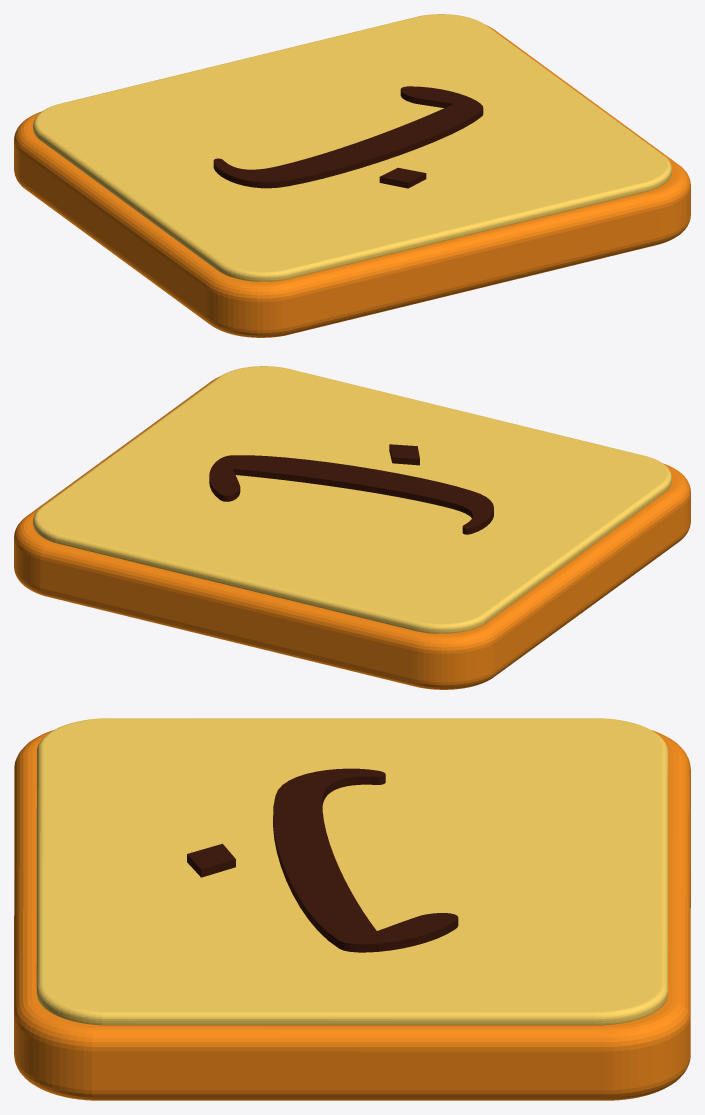
The model's file is Arabic_Baa_Test.fbx.
3 renders of one model, top to bottom at view 1: azimuth 30°, elevation 25°; view 2: azimuth 150°, elevation 25°; view 3: azimuth 270°, elevation 25°, orthographic. The views are drawn at different scales.
Parts seen in each view (by area): view 1: Tile_Cream_Face, Tile_Golden_Base, Baa_Letter, Baa_Dot; view 2: Tile_Cream_Face, Tile_Golden_Base, Baa_Letter, Baa_Dot; view 3: Tile_Cream_Face, Tile_Golden_Base, Baa_Letter, Baa_Dot.
Part boxes in pixels (left/top/right/bottom): Tile_Cream_Face: left=33, top=14, right=671, bottom=281; Tile_Golden_Base: left=14, top=24, right=690, bottom=337; Baa_Letter: left=213, top=86, right=483, bottom=188; Baa_Dot: left=379, top=167, right=426, bottom=188; Tile_Cream_Face: left=33, top=366, right=671, bottom=633; Tile_Golden_Base: left=14, top=376, right=690, bottom=689; Baa_Letter: left=209, top=455, right=493, bottom=534; Baa_Dot: left=389, top=444, right=419, bottom=465; Tile_Cream_Face: left=36, top=718, right=668, bottom=1025; Tile_Golden_Base: left=14, top=730, right=690, bottom=1100; Baa_Letter: left=273, top=768, right=458, bottom=952; Baa_Dot: left=187, top=843, right=235, bottom=877.
Size of the model in its own units: 20 by 18 by 2.66.
